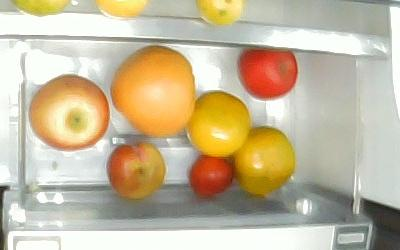apple: (27, 73, 110, 151), (235, 48, 298, 100)
grapefruit: (109, 43, 197, 137)
persimmon: (183, 88, 251, 158), (231, 125, 295, 194)
prune: (105, 141, 166, 200), (187, 153, 233, 198)
